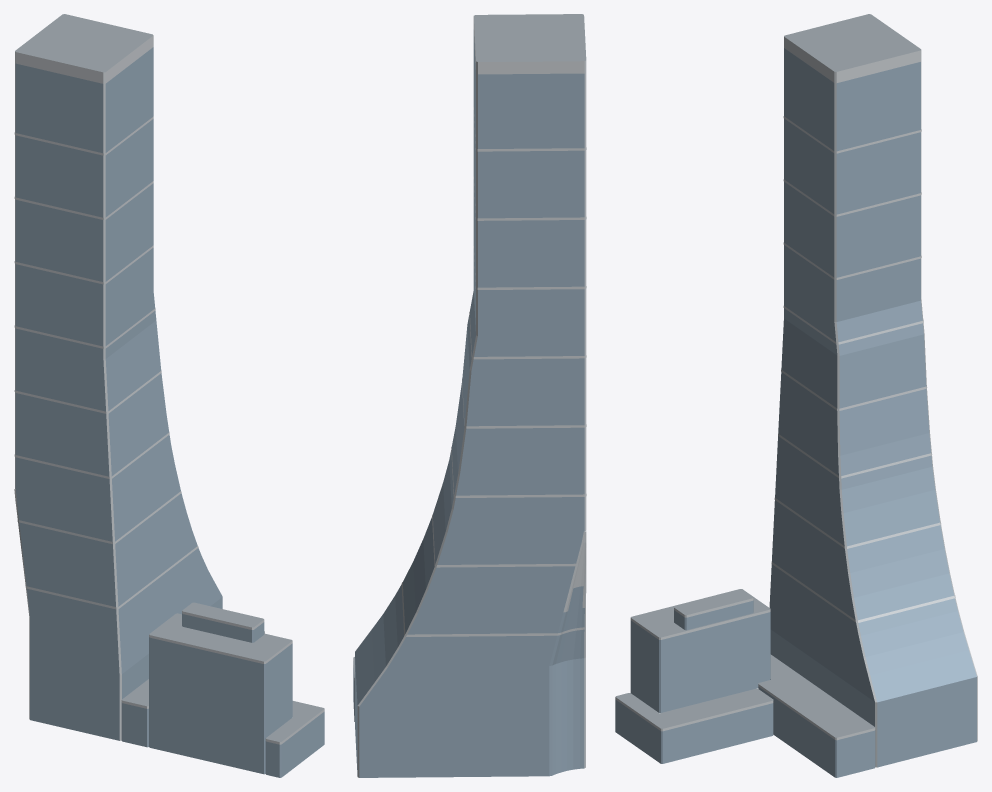
The picture shows the model from 3 angles, left to right: view 1: azimuth 30°, elevation 25°; view 2: azimuth 150°, elevation 25°; view 3: azimuth 270°, elevation 25°; orthographic projection. The views are drawn at different scales.
Visible parts, largest first — view 1: rainier-square-tower; view 2: rainier-square-tower; view 3: rainier-square-tower.
Part boxes in pixels (<box>): rainier-square-tower: <box>14,14,324,777</box>; rainier-square-tower: <box>353,14,586,777</box>; rainier-square-tower: <box>615,14,977,777</box>.
Bounding box in the file's own units: 95.3 × 260 × 131.
